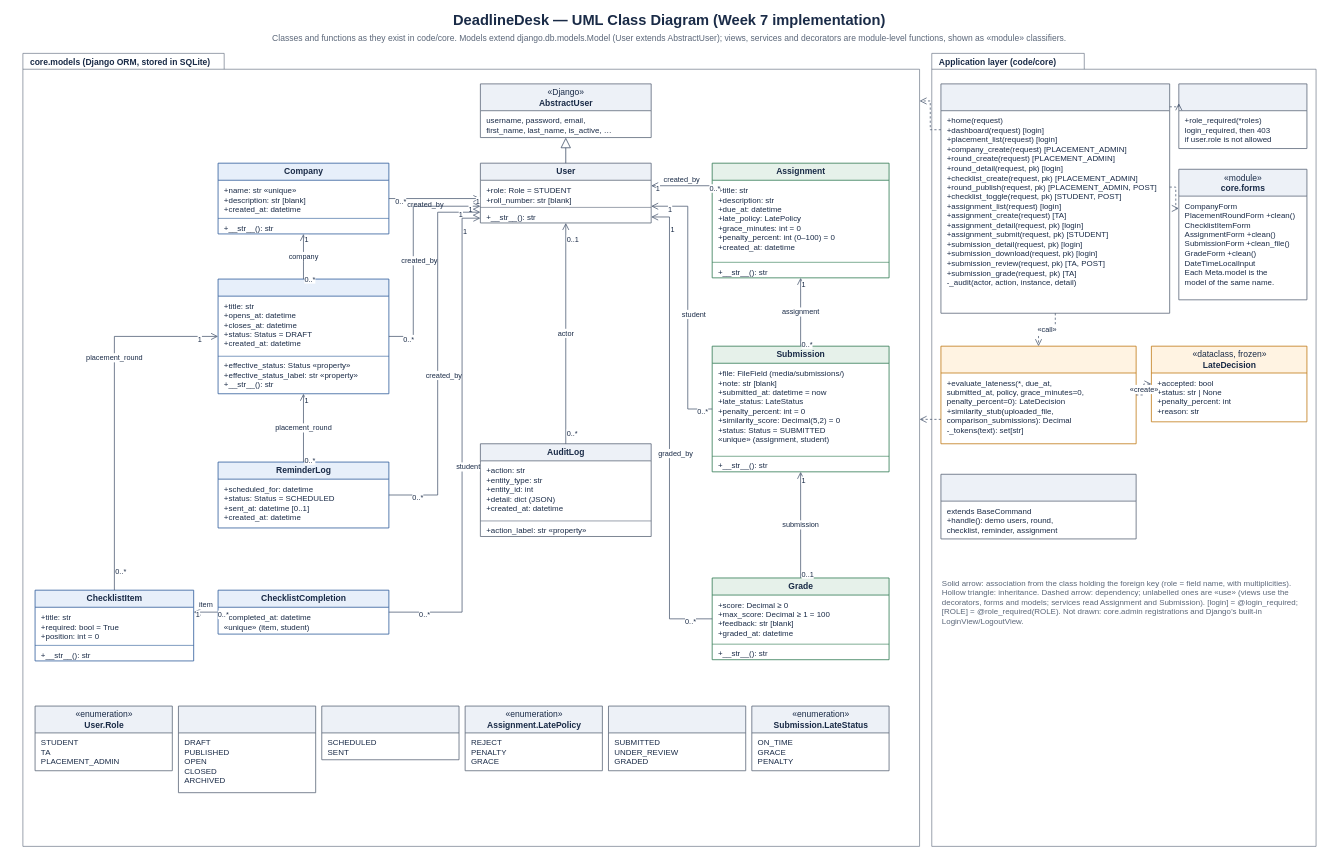
Some shapes in this 1338 by 857 pixel diagram are drawn without their labels. Each missing label, with the box of its shape:
PlacementRound: (217, 278, 389, 394)
«enumeration» PlacementRound.Status: (178, 705, 316, 793)
«enumeration» ReminderLog.Status: (321, 705, 459, 760)
«enumeration» Submission.Status: (608, 705, 746, 771)
«management command» seed_demo.Command: (940, 474, 1136, 539)
«module» core.decorators: (1178, 83, 1307, 149)
«module» core.services: (940, 346, 1136, 444)
«module» core.views: (940, 83, 1170, 313)
